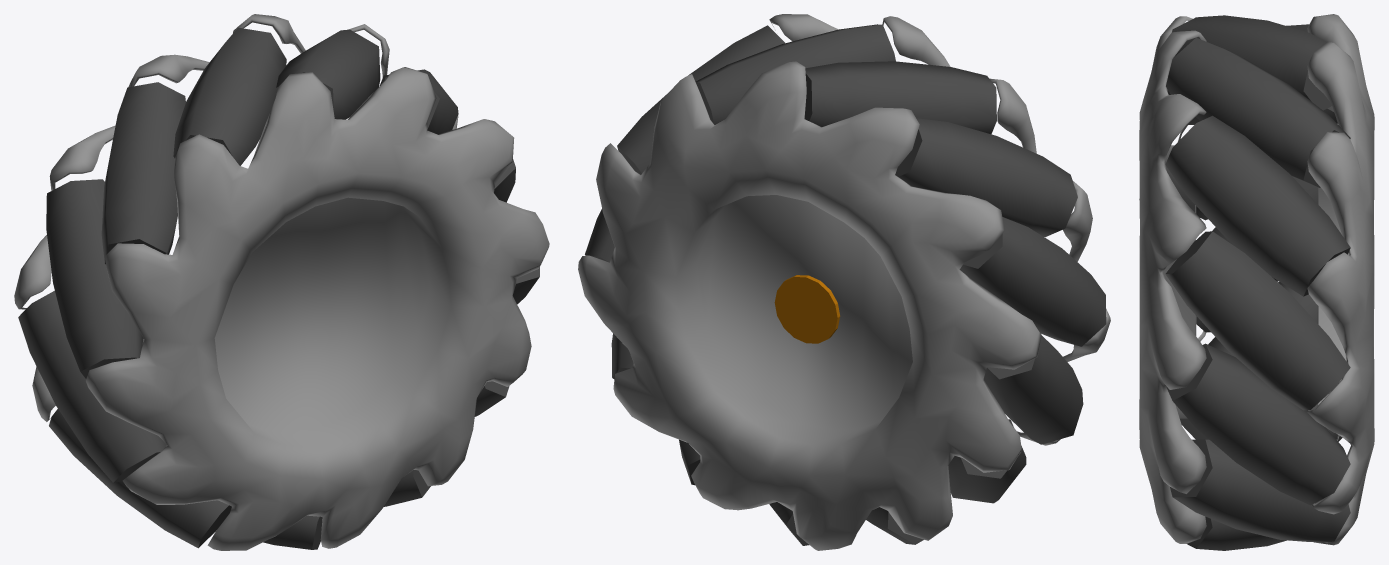
File: wheel.gltf
The picture shows the model from 3 angles, left to right: view 1: azimuth 30°, elevation 25°; view 2: azimuth 150°, elevation 25°; view 3: azimuth 270°, elevation 25°; orthographic projection.
Parts seen in each view (by area): view 1: front_left_wheel; view 2: front_left_wheel, NAME_wheel_link/visual0; view 3: front_left_wheel.
Part boxes in pixels (x1,y1,x2,y2): front_left_wheel: (14, 14, 549, 550); front_left_wheel: (578, 14, 1110, 550); NAME_wheel_link/visual0: (774, 275, 840, 343); front_left_wheel: (1139, 14, 1374, 550).
Size of the model in its own units: 0.1023 by 0.1027 by 0.045.
